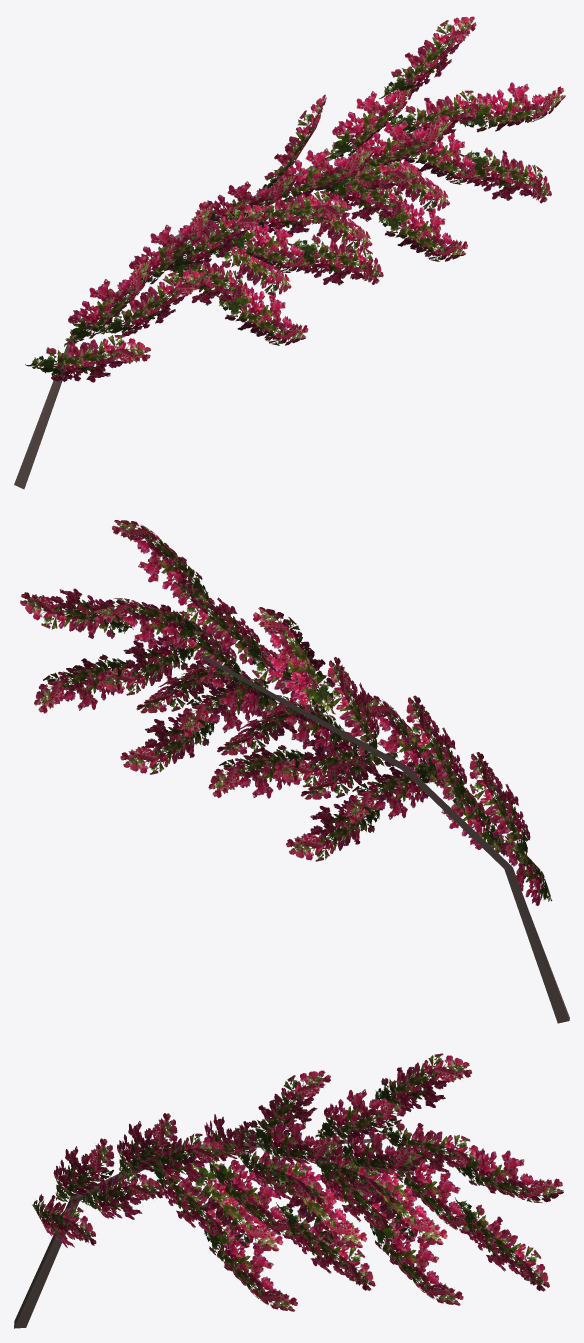
File: bougainvillea_c_branch.fbx
3 views of the same model, one above another, from view 1: azimuth 30°, elevation 25°; view 2: azimuth 150°, elevation 25°; view 3: azimuth 330°, elevation 25° (orthographic). The views are drawn at different scales.
Parts seen in each view (by area): view 1: Bouganvilla5, Bouganvilla7, Bouganvilla15, Bouganvilla17, Bouganvilla4, Bouganvilla13, Bouganvilla1, Bouganvilla22, Bouganvilla19, Bouganvilla16, Bouganvilla3, Bouganvilla12 (+15 smaller); view 2: branch1, Bouganvilla25, Bouganvilla4, Bouganvilla16, Bouganvilla20, Bouganvilla18, Bouganvilla6, Bouganvilla19, Bouganvilla15, Bouganvilla1, Bouganvilla13, Bouganvilla23 (+15 smaller); view 3: Bouganvilla17, Bouganvilla15, Bouganvilla19, Bouganvilla21, Bouganvilla24, Bouganvilla1, Bouganvilla22, Bouganvilla13, Bouganvilla16, Bouganvilla26, Bouganvilla2, Bouganvilla25 (+15 smaller).
Boxes of the visible parts, x1,y1,x2,y2 form: Bouganvilla5: (25,335,150,382); Bouganvilla7: (94,270,206,336); Bouganvilla15: (379,16,476,98); Bouganvilla17: (460,147,551,203); Bouganvilla4: (64,256,151,346); Bouganvilla13: (375,202,467,261); Bouganvilla1: (287,234,383,285); Bouganvilla22: (215,286,308,345); Bouganvilla19: (458,82,565,132); Bouganvilla16: (325,74,414,159); Bouganvilla3: (165,205,268,270); Bouganvilla12: (257,143,374,201); branch1: (202,655,569,1023); Bouganvilla25: (253,607,335,714); Bouganvilla4: (469,752,530,870); Bouganvilla16: (173,578,268,671); Bouganvilla20: (93,598,206,649); Bouganvilla18: (97,635,197,695); Bouganvilla6: (406,695,466,814); Bouganvilla19: (20,588,133,638); Bouganvilla15: (112,520,212,605); Bouganvilla1: (208,745,307,798); Bouganvilla13: (120,712,217,774); Bouganvilla23: (345,761,435,824); Bouganvilla17: (455,1197,549,1291); Bouganvilla15: (374,1053,471,1112); Bouganvilla19: (455,1148,563,1202); Bouganvilla21: (185,1163,283,1251); Bouganvilla24: (266,1158,367,1247); Bouganvilla1: (276,1202,375,1290); Bouganvilla22: (204,1224,297,1311); Bouganvilla13: (369,1219,463,1305); Bouganvilla16: (315,1089,408,1144); Bouganvilla26: (347,1155,447,1244); Bouganvilla2: (209,1159,308,1238); Bouganvilla25: (248,1070,330,1143).
Size of the model in its own units: 90.1 by 59.26 by 10.44.
